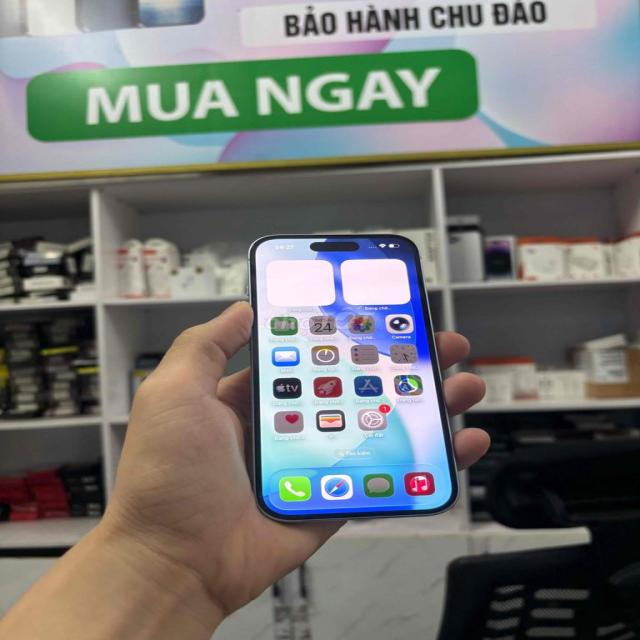gen_15: (217, 224, 464, 531)
